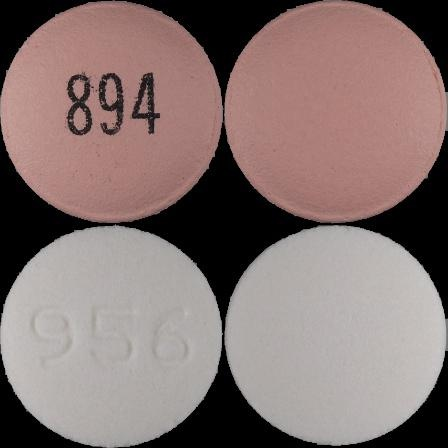47335-894: (0, 0, 224, 224)
